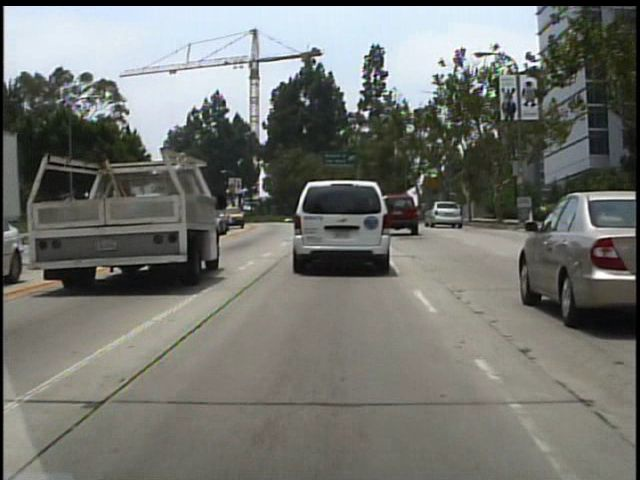person: (419, 195, 430, 224)
